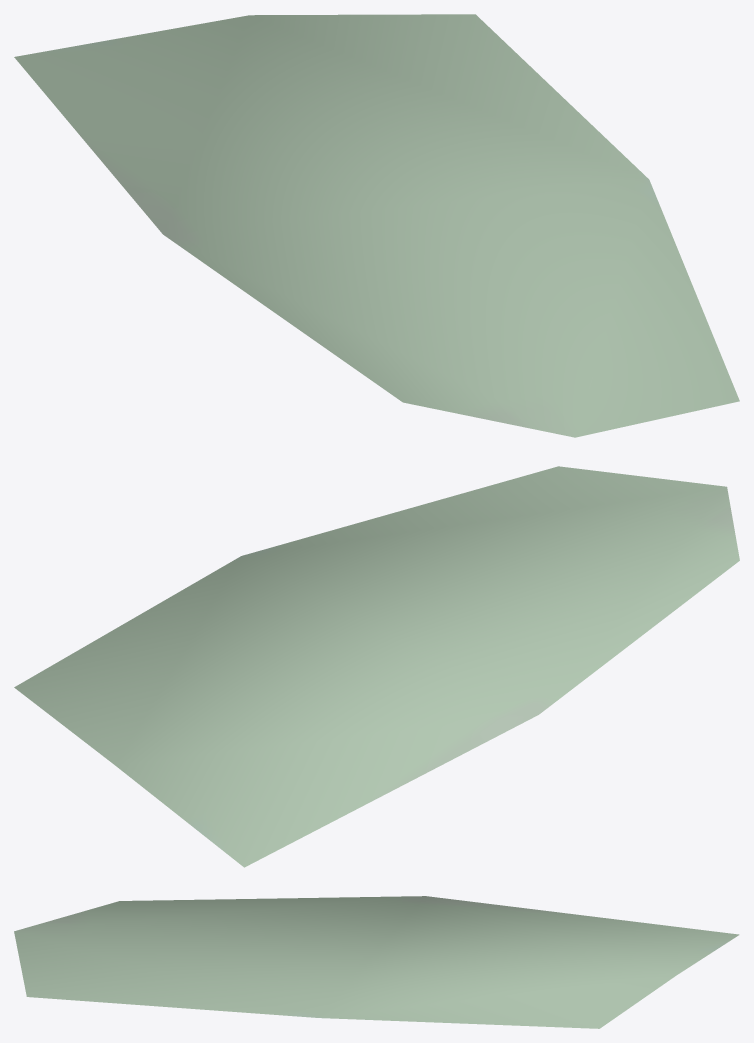
Rendered from TROLLHOLE02_HOLECAP74.fbx.
3 renders of one model, top to bottom at view 1: azimuth 30°, elevation 25°; view 2: azimuth 150°, elevation 25°; view 3: azimuth 270°, elevation 25°, orthographic. The views are drawn at different scales.
Parts seen in each view (by area): view 1: TROLLHOLE02_HOLECAP74; view 2: TROLLHOLE02_HOLECAP74; view 3: TROLLHOLE02_HOLECAP74.
Boxes of the visible parts, x1,y1,x2,y2 form: TROLLHOLE02_HOLECAP74: [14, 14, 739, 437]; TROLLHOLE02_HOLECAP74: [14, 466, 739, 867]; TROLLHOLE02_HOLECAP74: [14, 896, 739, 1028].
Size of the model in its own units: 11035 by 779 by 23484.
1 material, 1 textured.
